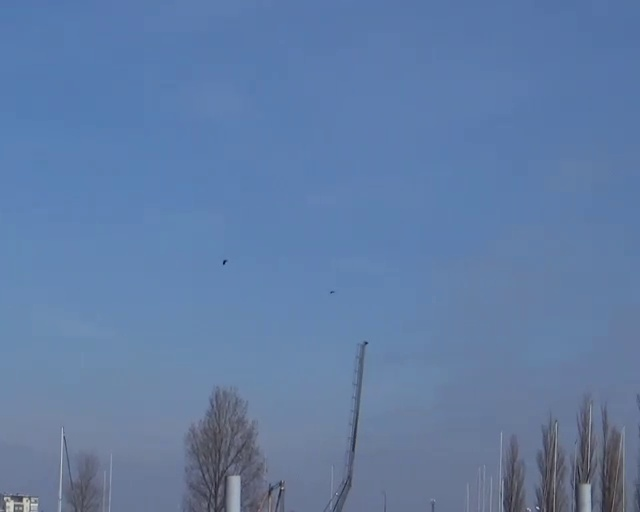BIRD: (328, 289, 335, 294)
